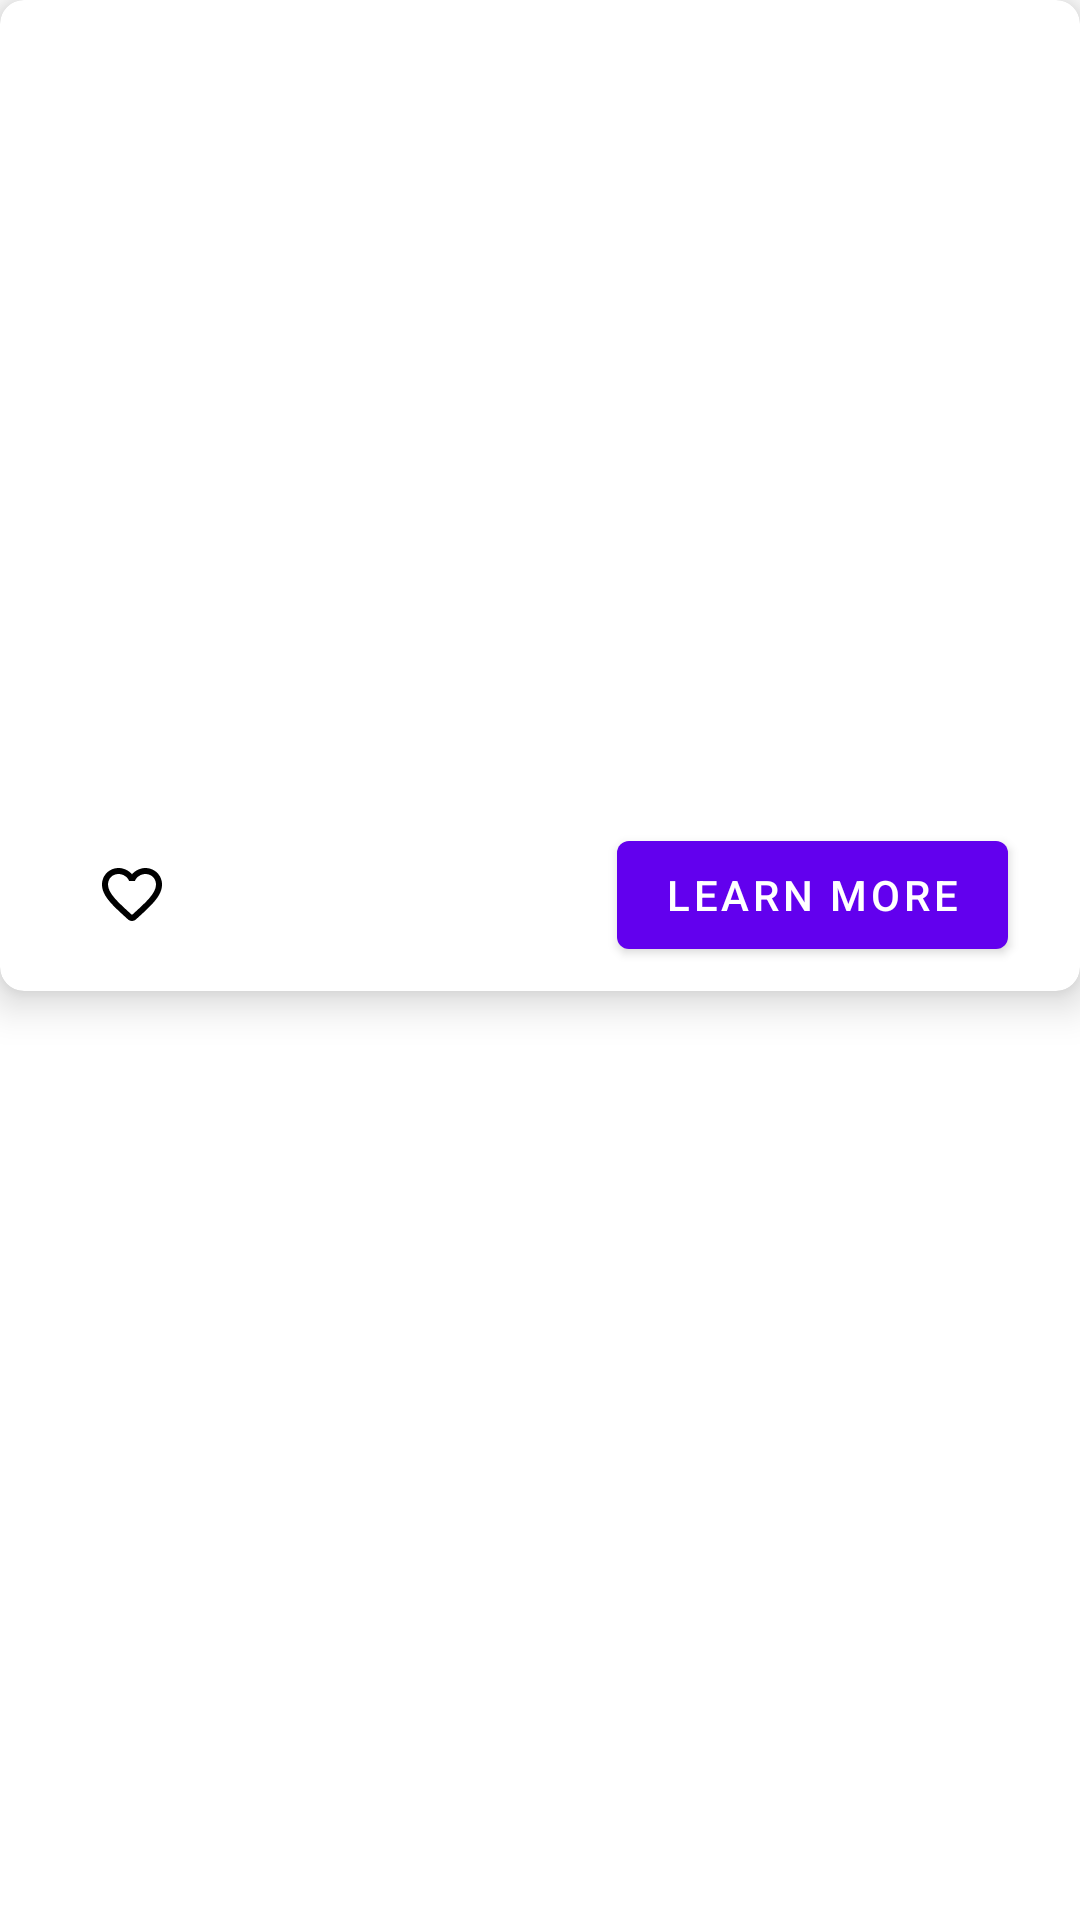

Point at icon controls on the screen. Image size 1080px×1920px, points as (x=x, y=y).
favorite: (x=132, y=894)
